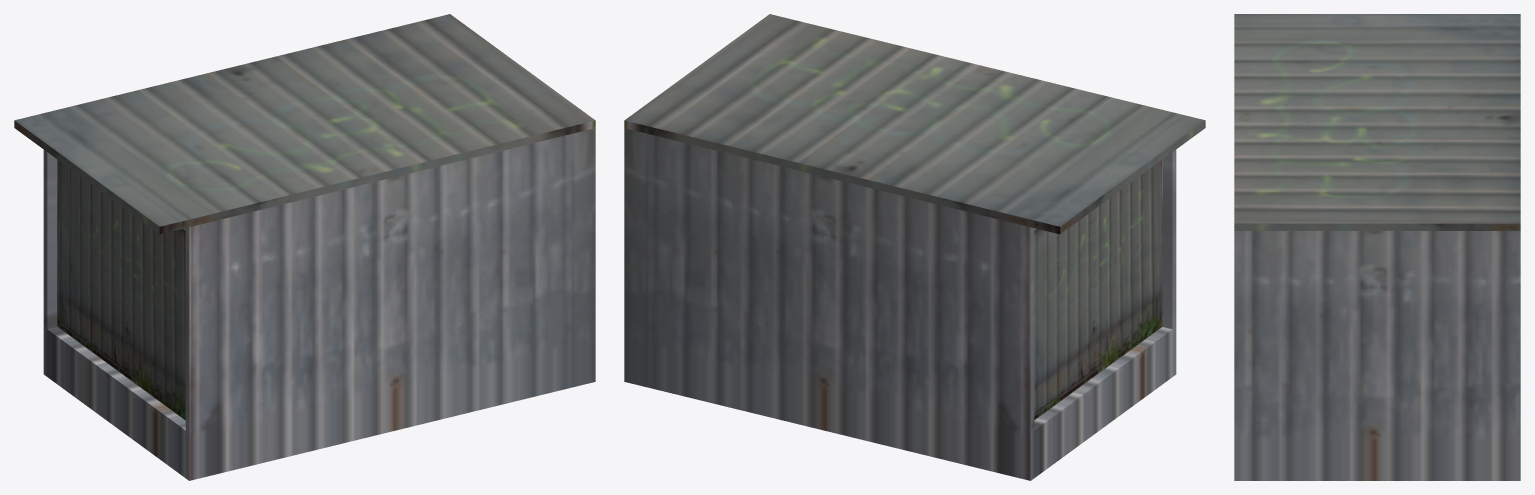
File: Garage_1.fbx
3 renders of one model, left to right at view 1: azimuth 30°, elevation 25°; view 2: azimuth 150°, elevation 25°; view 3: azimuth 270°, elevation 25°, orthographic.
Visible parts, largest first — view 1: Garage_1; view 2: Garage_1; view 3: Garage_1.
Boxes of the visible parts, box(x1,y1,x2,y2) form: Garage_1: box(14, 14, 595, 480); Garage_1: box(624, 14, 1205, 480); Garage_1: box(1234, 14, 1520, 480).
Bounding box in the file's own units: 613 × 351 × 354.
